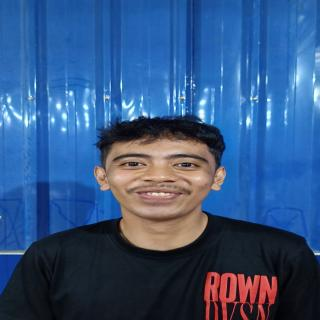Senang: (98, 129, 219, 227)
